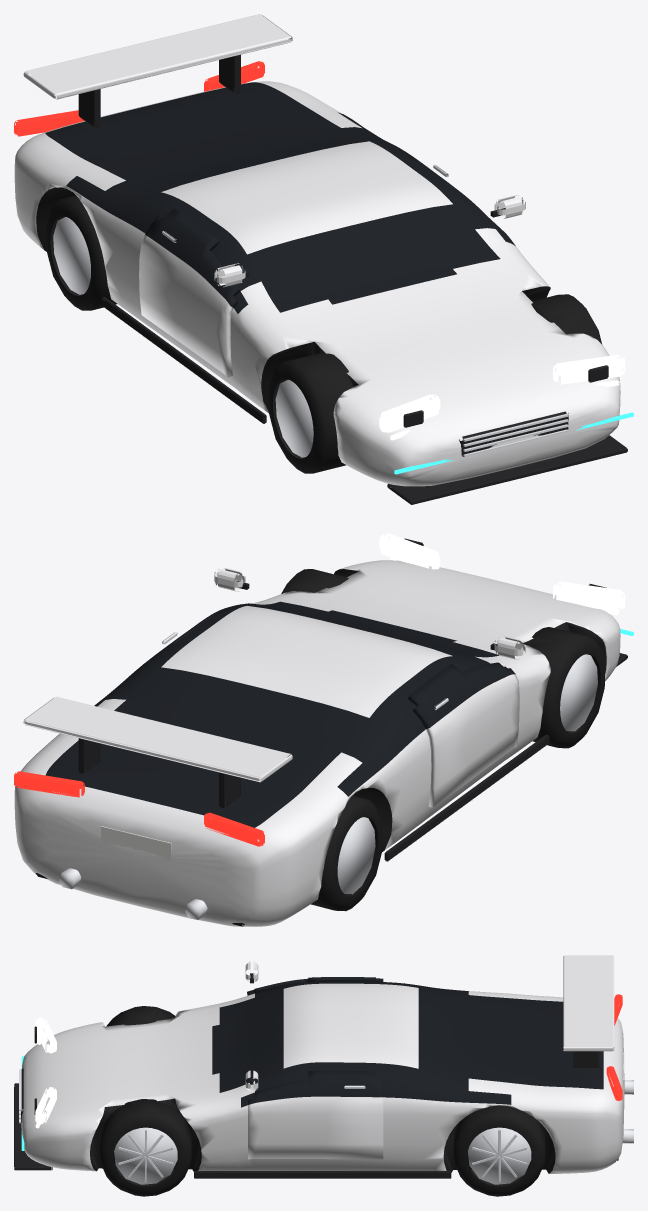
The model's file is phantom.glb.
3 renders of one model, top to bottom at view 1: azimuth 30°, elevation 25°; view 2: azimuth 150°, elevation 25°; view 3: azimuth 270°, elevation 25°, orthographic. The views are drawn at different scales.
Visible parts, largest first — view 1: body, door_R, wing, tire.001, splitter, tire.003, rim.001, rim.003, skirt.001, tire, headlight, grille (+4 smaller); view 2: body, door_R, wing, tire.001, tire.003, rim.003, rim.001, skirt.001, headlight.001, headlight, taillight, plate (+6 smaller); view 3: body, door_L, wing, tire, tire.002, rim, rim.002, skirt, tire.001, splitter, door_R, headlight (+2 smaller).
Boxes of the visible parts, bbox=[...] form: body: bbox=[14, 81, 620, 486]; door_R: bbox=[139, 208, 240, 377]; wing: bbox=[23, 14, 292, 99]; tire.001: bbox=[268, 353, 352, 473]; splitter: bbox=[387, 435, 627, 504]; tire.003: bbox=[46, 195, 116, 310]; rim.001: bbox=[275, 379, 313, 457]; rim.003: bbox=[53, 217, 90, 294]; skirt.001: bbox=[101, 297, 266, 423]; tire: bbox=[531, 294, 601, 343]; headlight: bbox=[553, 354, 625, 384]; grille: bbox=[459, 411, 568, 456]; body: bbox=[14, 560, 620, 926]; door_R: bbox=[407, 662, 519, 808]; wing: bbox=[23, 696, 292, 782]; tire.001: bbox=[528, 627, 604, 748]; tire.003: bbox=[311, 795, 382, 911]; rim.003: bbox=[337, 817, 375, 894]; rim.001: bbox=[560, 654, 597, 731]; skirt.001: bbox=[384, 734, 549, 861]; headlight.001: bbox=[553, 581, 625, 611]; headlight: bbox=[379, 533, 440, 569]; taillight: bbox=[14, 771, 84, 797]; plate: bbox=[101, 826, 171, 860]; body: bbox=[21, 981, 624, 1173]; door_L: bbox=[248, 1070, 383, 1159]; wing: bbox=[563, 955, 614, 1051]; tire: bbox=[100, 1099, 191, 1196]; tire.002: bbox=[453, 1105, 545, 1196]; rim: bbox=[114, 1127, 177, 1184]; rim.002: bbox=[468, 1127, 531, 1184]; skirt: bbox=[194, 1171, 451, 1178]; tire.001: bbox=[106, 1006, 175, 1026]; splitter: bbox=[14, 1083, 52, 1170]; door_R: bbox=[247, 977, 383, 995]; headlight: bbox=[35, 1087, 56, 1124].
Size of what is drawn, in the model's own units: 2.2 by 1.22 by 4.82.
